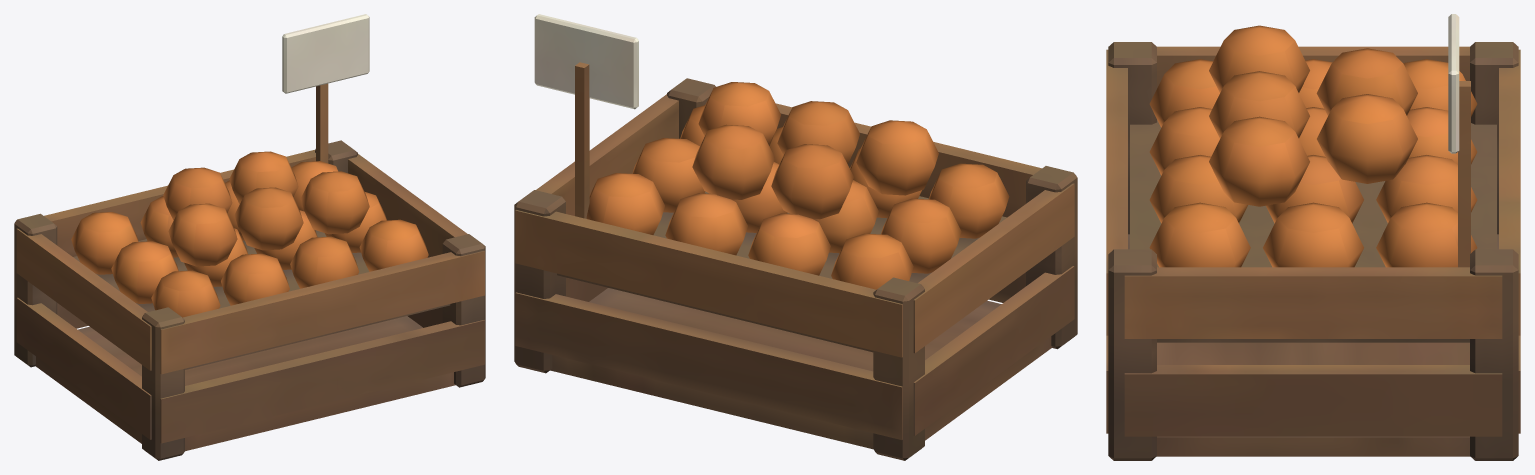
File: crate_oranges.glb
3 renders of one model, left to right at view 1: azimuth 30°, elevation 25°; view 2: azimuth 150°, elevation 25°; view 3: azimuth 270°, elevation 25°, orthographic. The views are drawn at different scales.
Parts seen in each view (by area): view 1: crate_oranges; view 2: crate_oranges; view 3: crate_oranges.
Boxes of the visible parts, x1=… form: crate_oranges: x1=14, y1=14, x2=485, y2=460; crate_oranges: x1=514, y1=14, x2=1077, y2=460; crate_oranges: x1=1106, y1=14, x2=1520, y2=460.
Size of the model in its own units: 0.507 by 0.4025 by 0.384.
4 materials, 4 textured.
